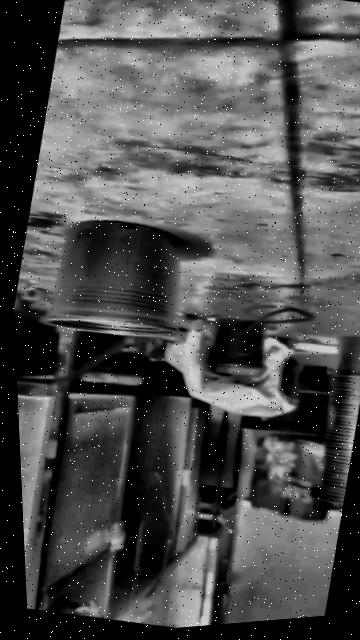pot: (38, 202, 206, 355), (205, 314, 270, 377)
